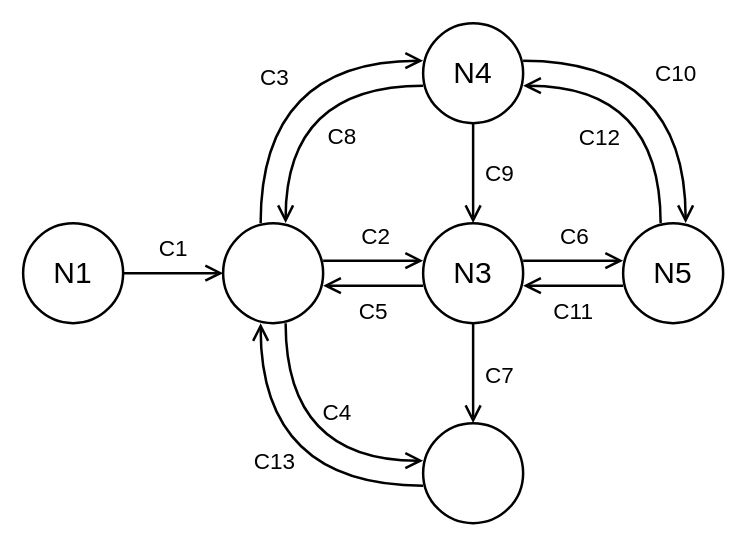
The diagram is 745 pixels wide and 545 high, and some of its shapes have lost their labels. The shapes that lost their labels are listed below. From the top down, each one's box as (x1, y1, x2, y2) in pixels, then its label:
(221, 221, 324, 324): N2
(421, 421, 524, 524): N6
